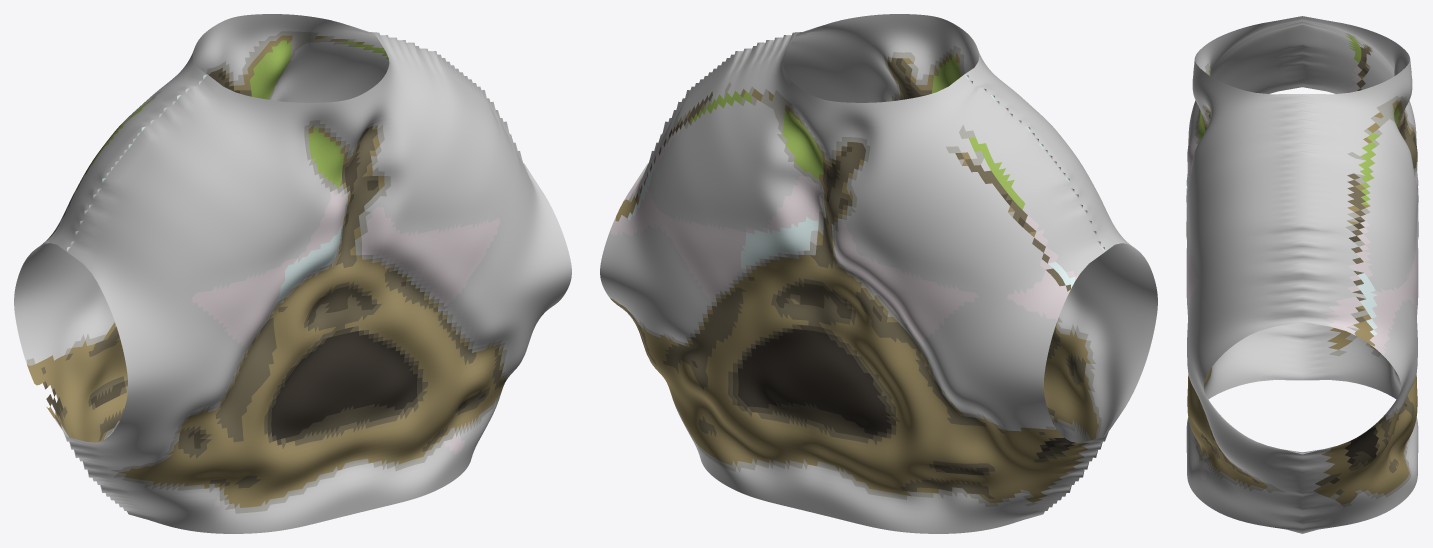
Rendered from sandygastx.glb.
3 renders of one model, left to right at view 1: azimuth 30°, elevation 25°; view 2: azimuth 150°, elevation 25°; view 3: azimuth 270°, elevation 25°, orthographic. The views are drawn at different scales.
Visible parts, largest first — view 1: sandygastx; view 2: sandygastx; view 3: sandygastx.
Part boxes in pixels (left/top/right/bottom): sandygastx: left=14, top=14, right=571, bottom=533; sandygastx: left=600, top=14, right=1157, bottom=533; sandygastx: left=1186, top=16, right=1418, bottom=533.
Bounding box in the file's own units: 428 × 376 × 198.
